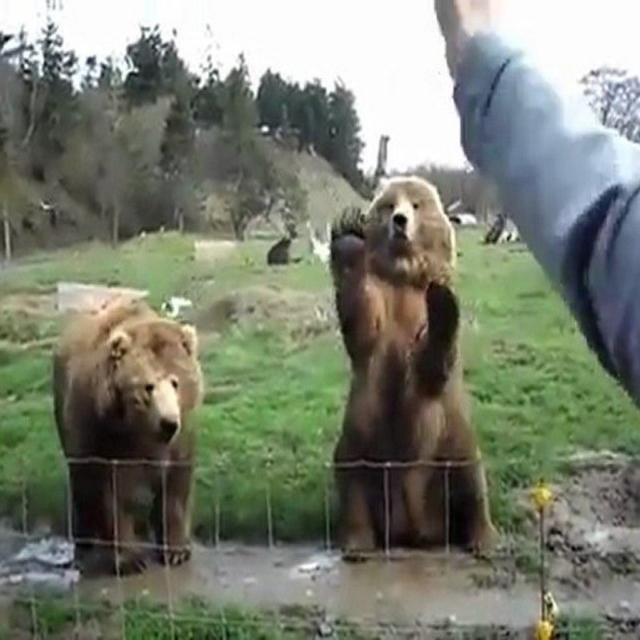Bear: (328, 178, 501, 558), (52, 283, 206, 577)
